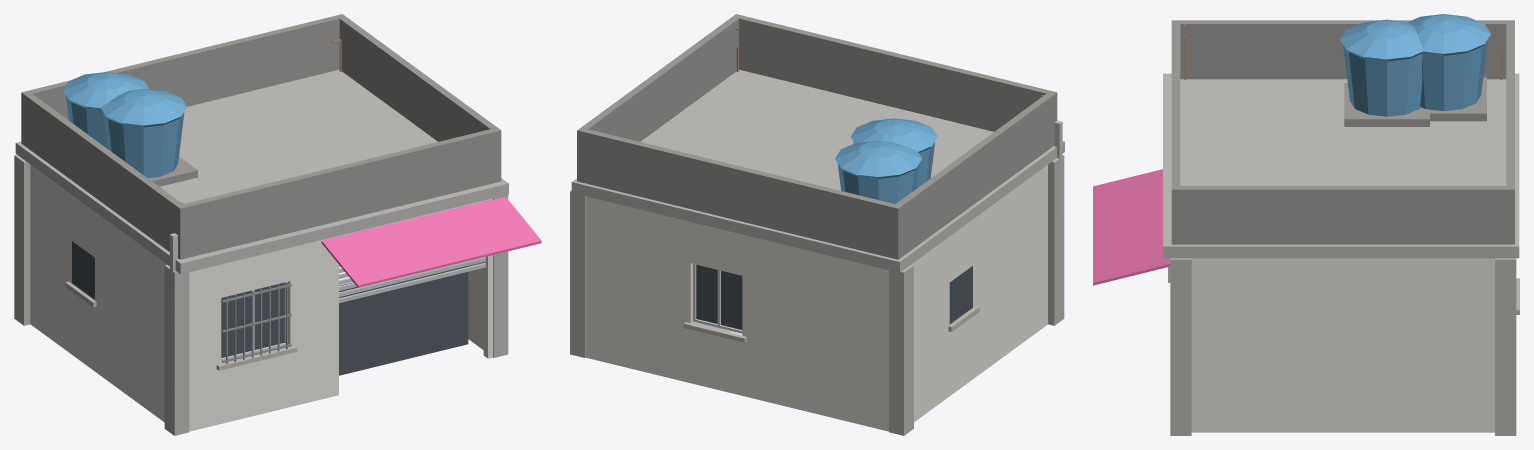
3 views of the same model, side by side, from view 1: azimuth 30°, elevation 25°; view 2: azimuth 150°, elevation 25°; view 3: azimuth 270°, elevation 25° (orthographic). The views are drawn at different scales.
Parts seen in each view (by area): view 1: fv_h09; view 2: fv_h09; view 3: fv_h09.
Boxes of the visible parts, x1,y1,x2,y2 form: fv_h09: [14, 14, 541, 435]; fv_h09: [570, 14, 1064, 435]; fv_h09: [1093, 14, 1519, 435].
Size of the model in its own units: 5.82 by 4.16 by 5.97.
